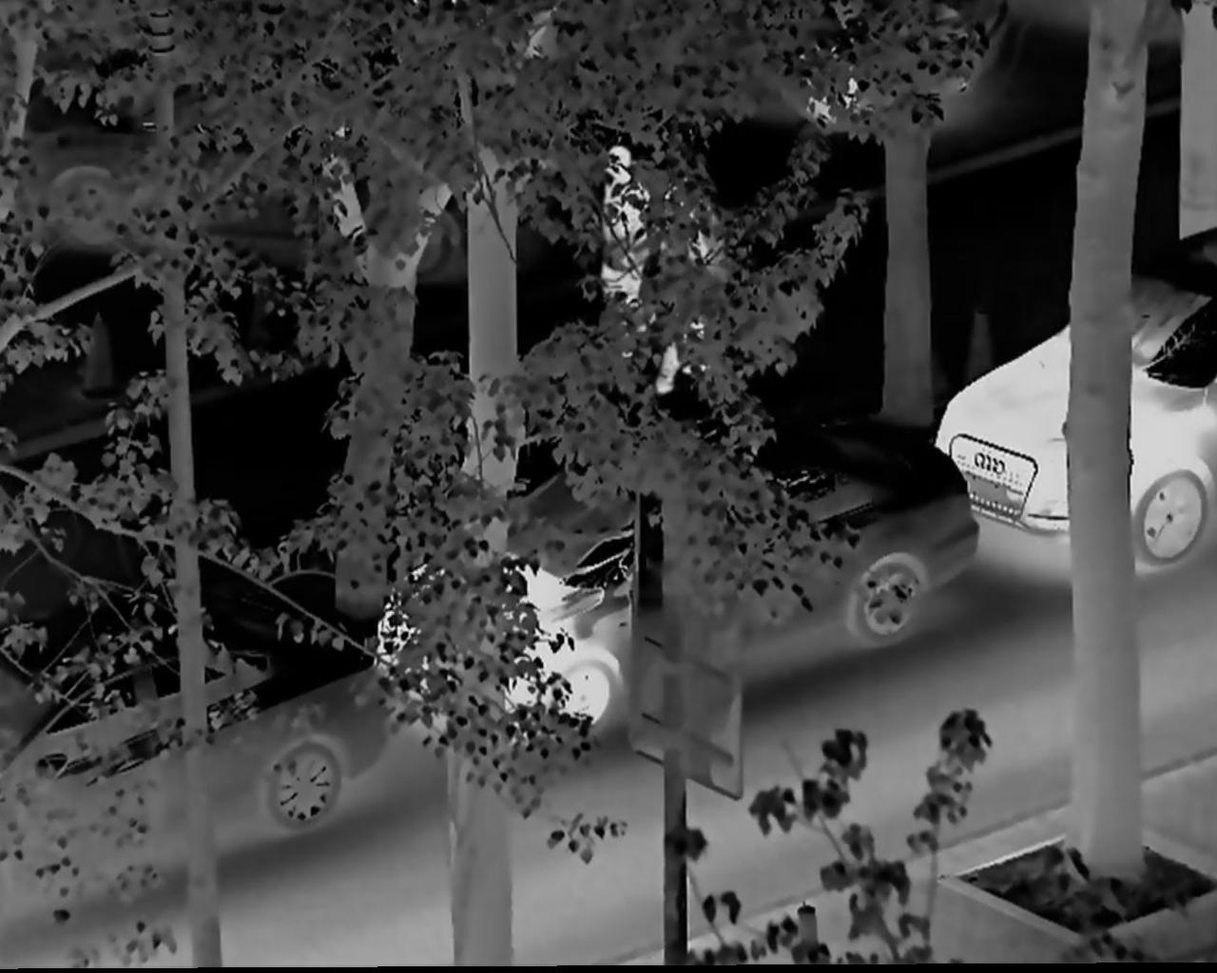person: (586, 136, 647, 344)
